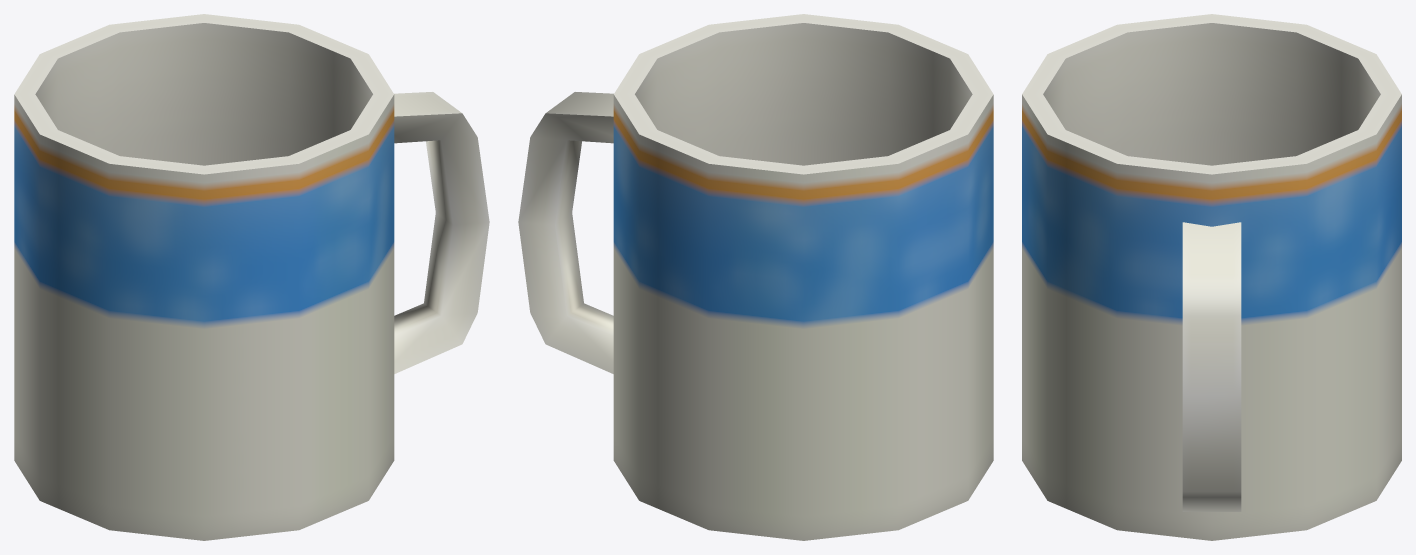
The model's file is KR_Mug_01_02.fbx.
3 renders of one model, left to right at view 1: azimuth 30°, elevation 25°; view 2: azimuth 150°, elevation 25°; view 3: azimuth 270°, elevation 25°, orthographic.
Visible parts, largest first — view 1: kr_mug_01_02; view 2: kr_mug_01_02; view 3: kr_mug_01_02.
Part boxes in pixels (x1,y1,x2,y2): kr_mug_01_02: (14, 14, 489, 540); kr_mug_01_02: (518, 14, 993, 540); kr_mug_01_02: (1022, 14, 1401, 540).
Bounding box in the file's own units: 10.56 × 8.5 × 7.99.
